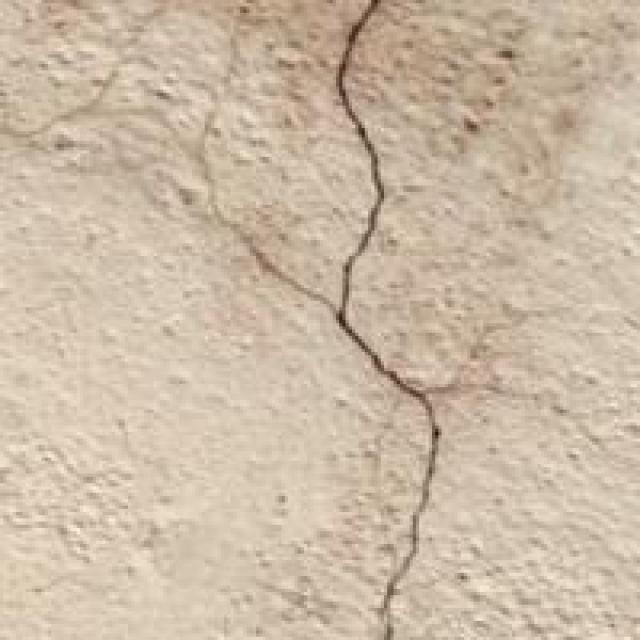Crack: (227, 0, 458, 637)
